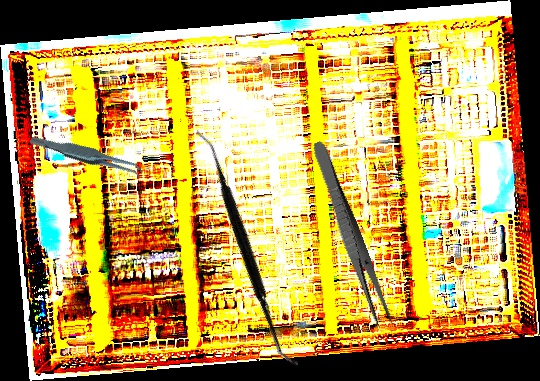Dressing Forceps: (306, 139, 395, 329)
Spatula Surgical: (119, 128, 376, 367)
Tissue Forceps: (28, 113, 146, 199)
